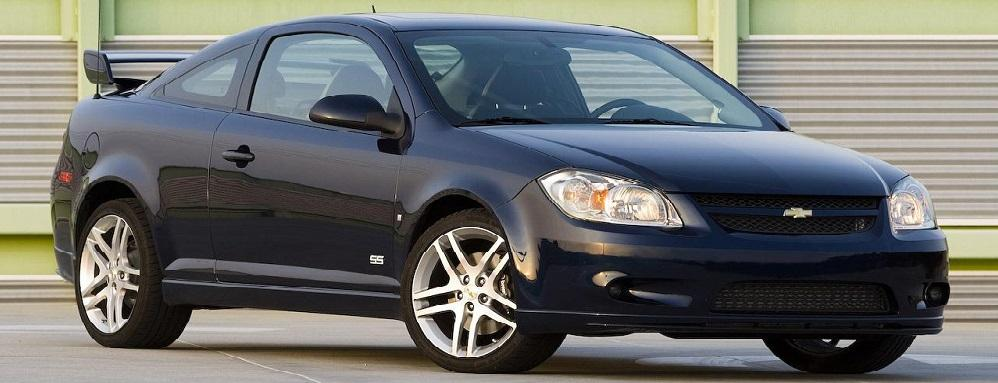windshield: (387, 28, 795, 139)
